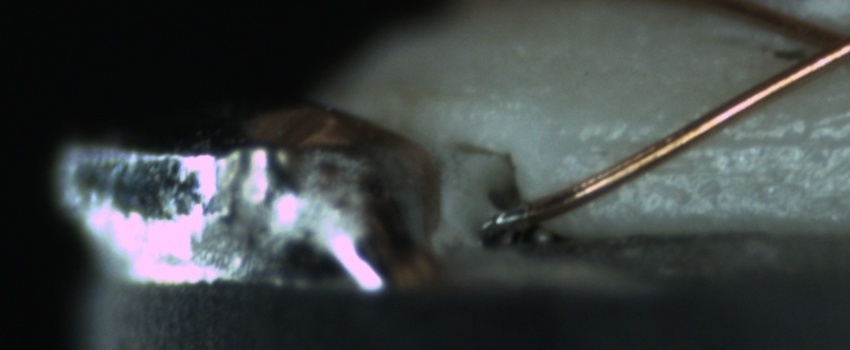CL: (769, 1, 849, 88)
DL: (568, 109, 850, 173)
TS: (479, 203, 531, 235)
